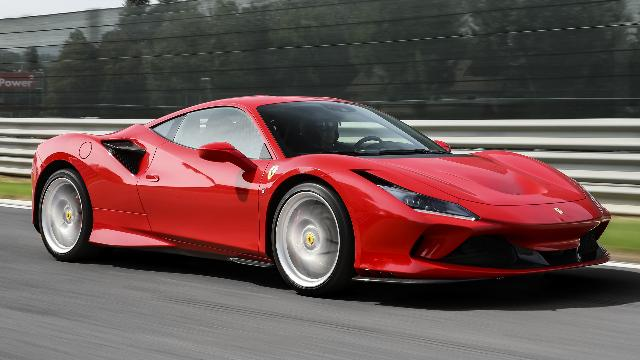ferrari: (30, 94, 612, 296)
